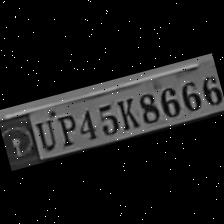4: (72, 105, 100, 143)
5: (92, 99, 120, 138)
6: (154, 82, 184, 122), (176, 77, 203, 114), (196, 72, 223, 108)
8: (131, 87, 161, 127)
K: (112, 94, 140, 132)
P: (51, 110, 81, 149)
U: (29, 114, 60, 154)
